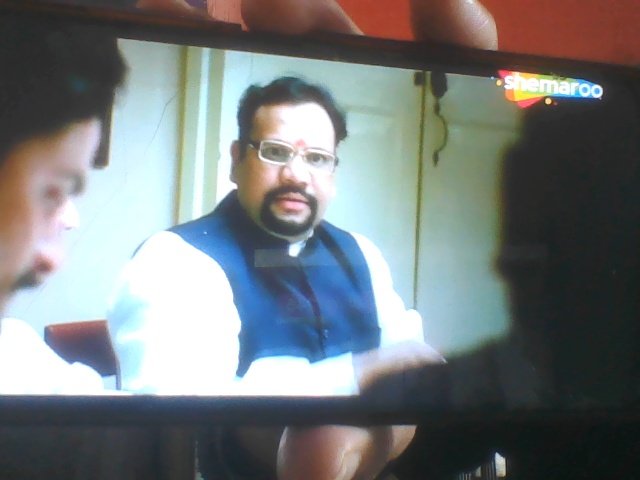fake: (230, 77, 347, 243)
